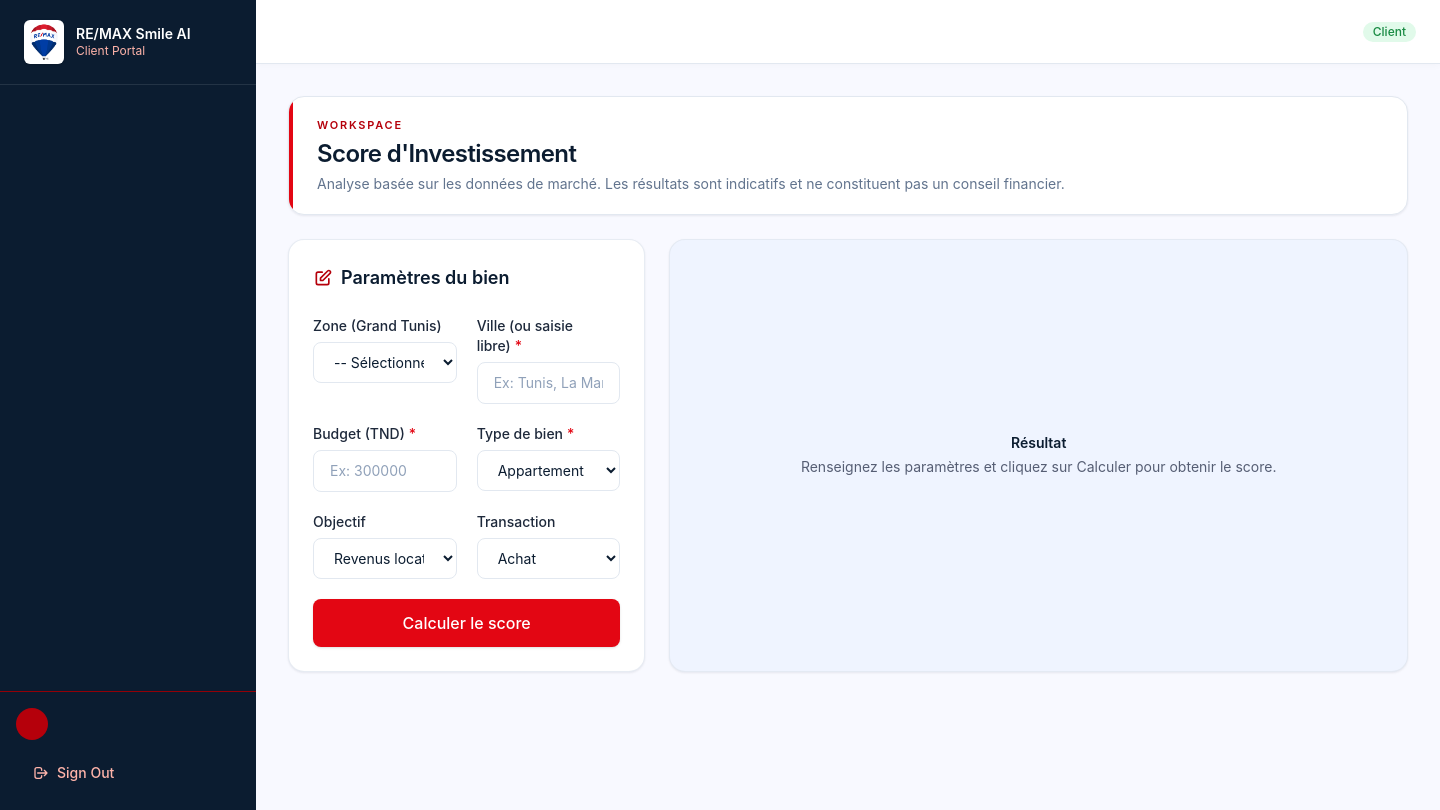
it: InvestmentScorePage › displays API errors
Step 1. Type "Unknown" into the field labelled "Ville" → (549, 382), box top-left (477, 362), bottom-right (620, 404)
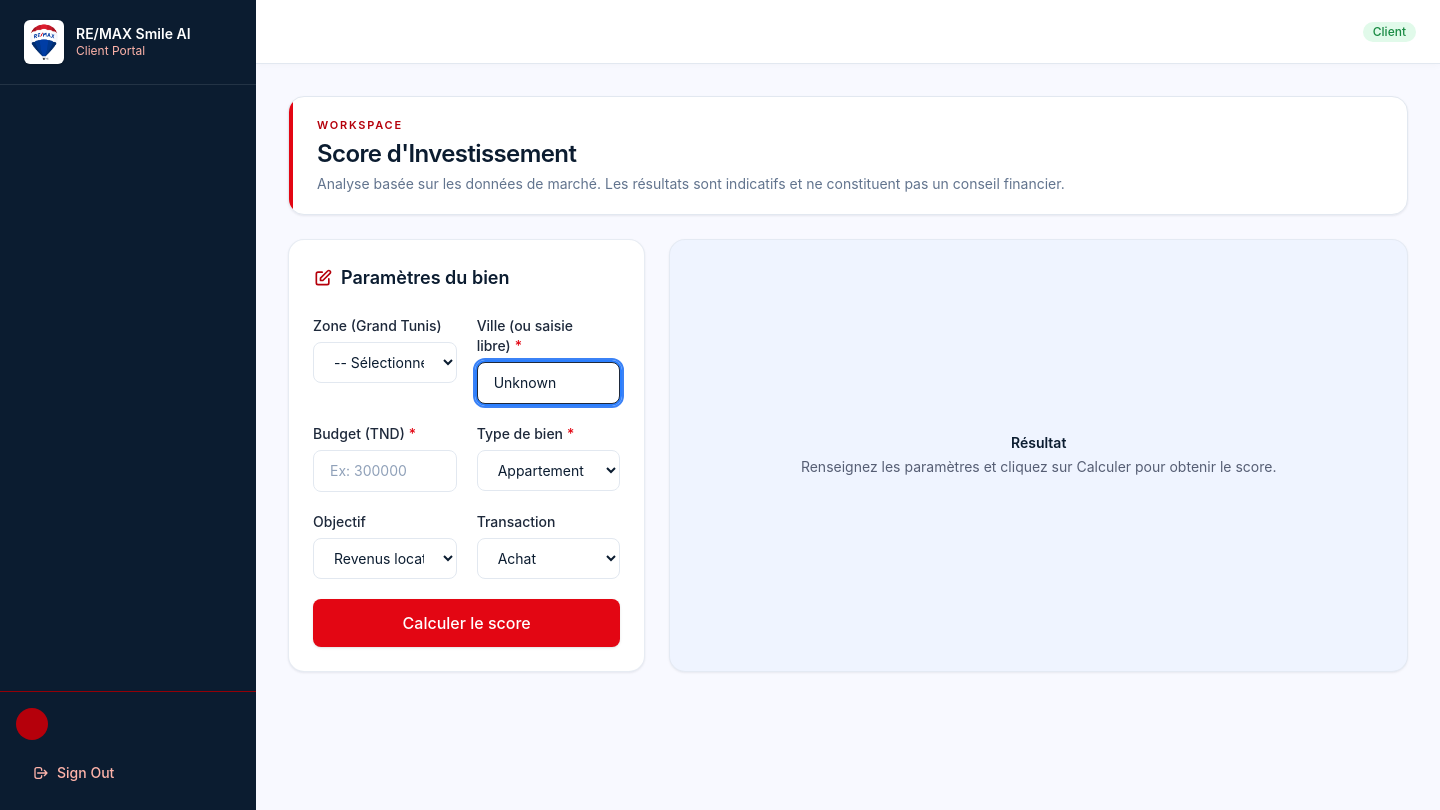
Step 2. Type "100000" into the number field named "Budget en TND" → (385, 470), box top-left (313, 450), bottom-right (457, 492)
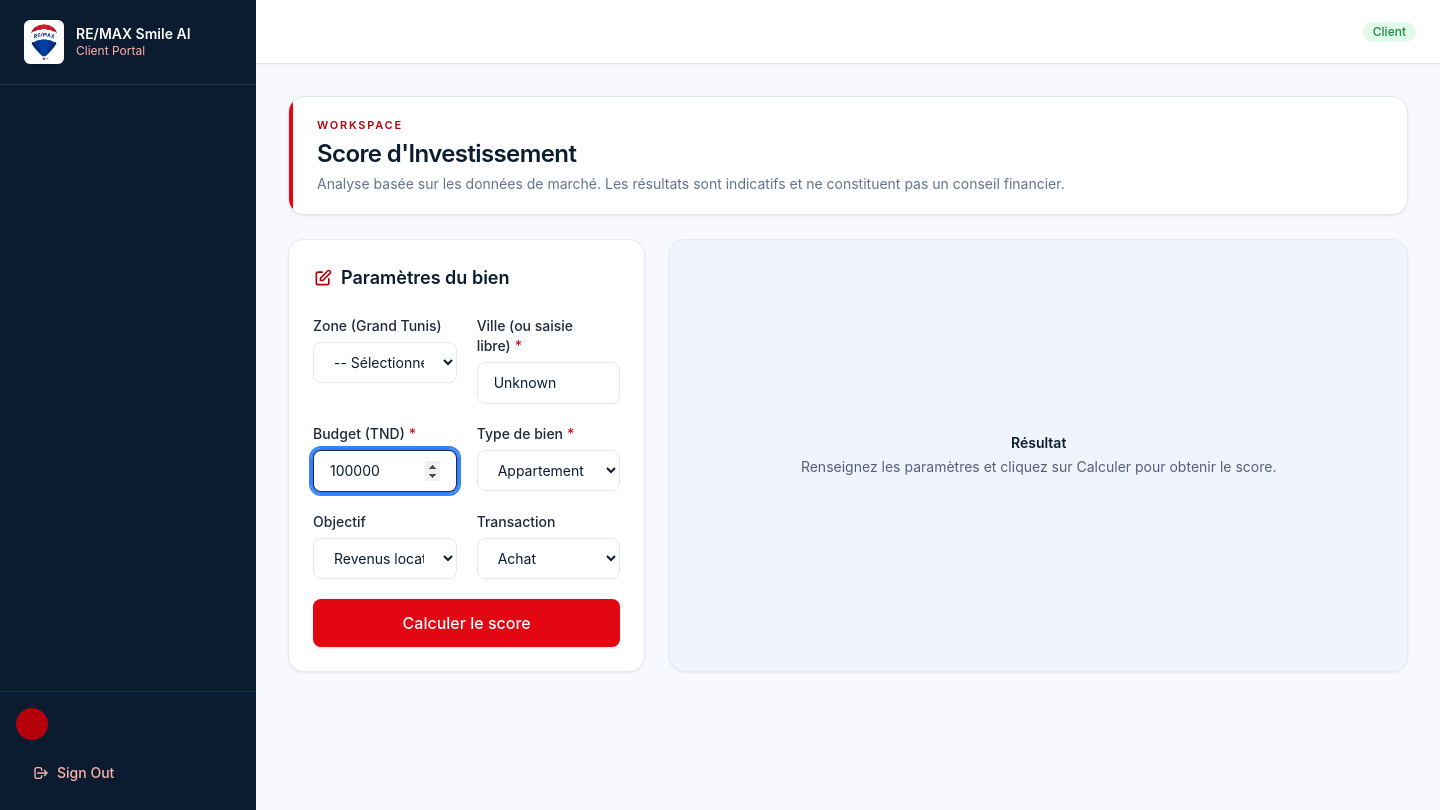
Step 3. Click the button "Calculer le score" → (467, 622), box top-left (313, 598), bottom-right (620, 646)
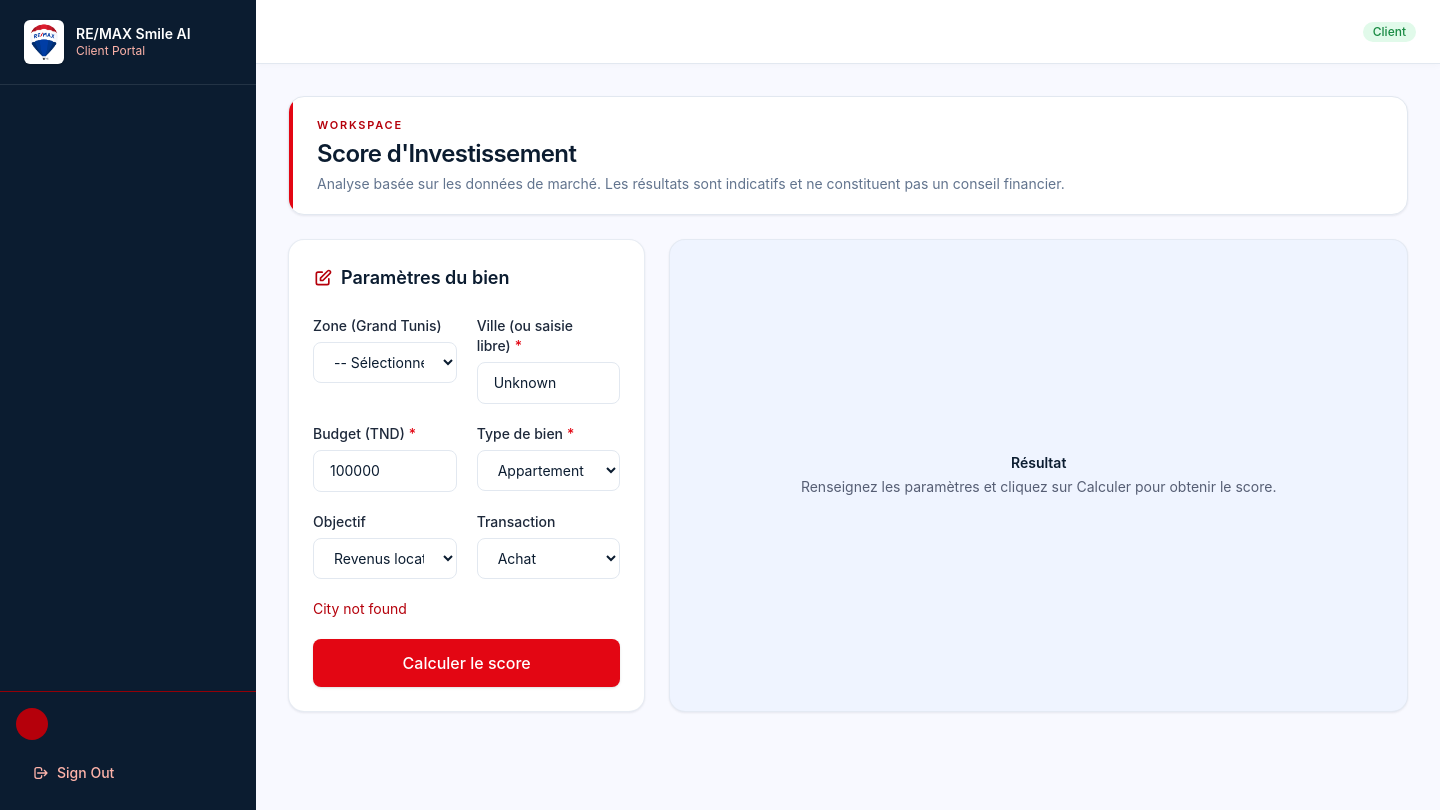
Now the text "City not found" is shown, box top-left (313, 600), bottom-right (407, 616)
